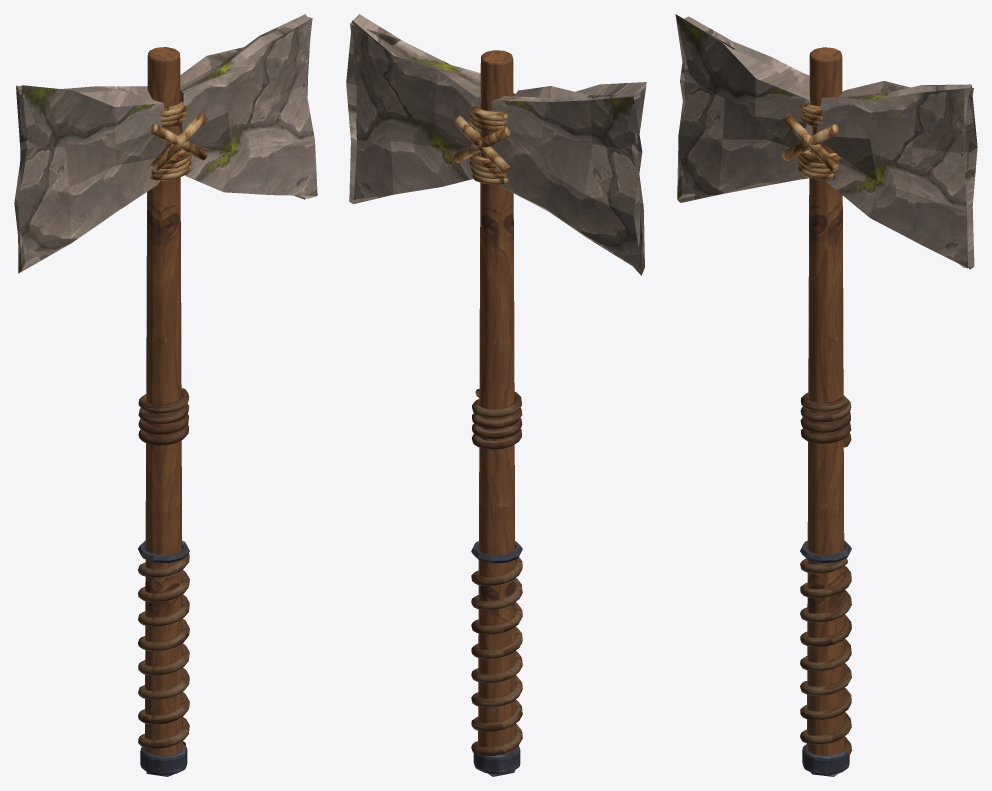
File: axe_2h_stone.glb
3 renders of one model, left to right at view 1: azimuth 30°, elevation 25°; view 2: azimuth 150°, elevation 25°; view 3: azimuth 330°, elevation 25°, orthographic.
Parts seen in each view (by area): view 1: model; view 2: model; view 3: model.
Boxes of the visible parts, x1,y1,x2,y2 form: model: (14, 14, 317, 776); model: (346, 14, 646, 776); model: (675, 14, 977, 776).
Bounding box in the file's own units: 0.5836 × 1.37 × 0.1211.
Materials: 6 (6 with a texture image).
